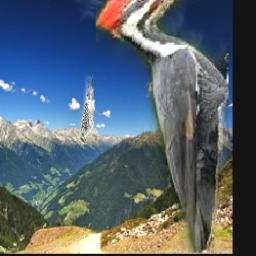Woodpecker: (96, 0, 229, 254), (78, 77, 94, 146)
